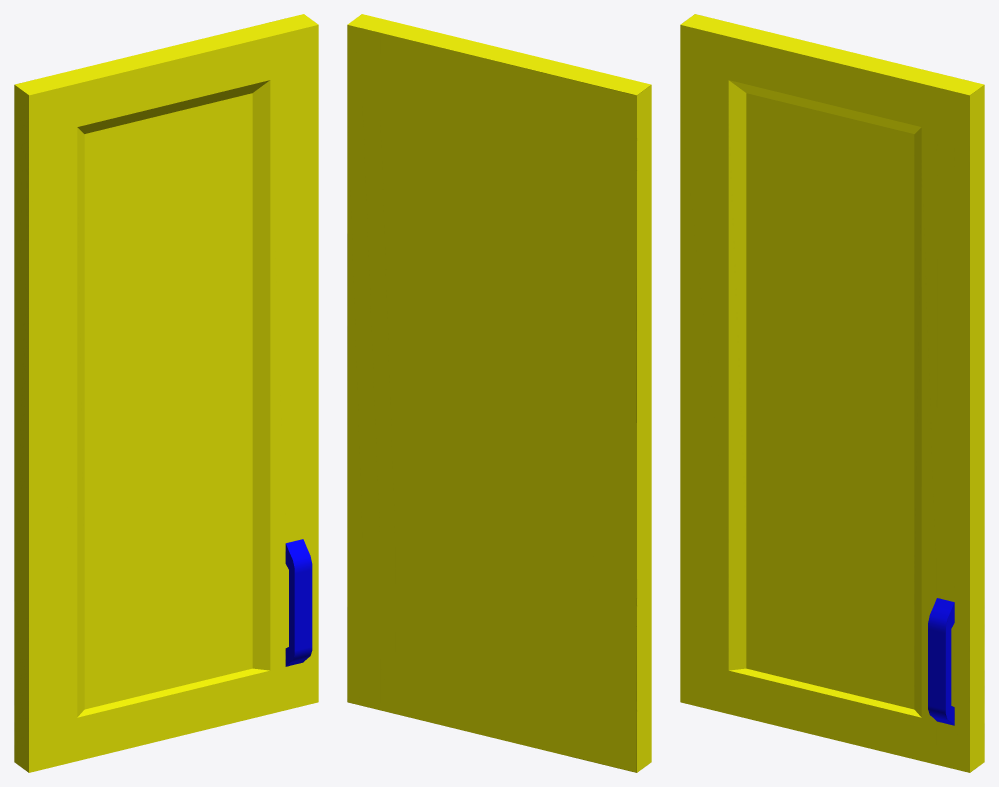
Rendered from SM_CabinetDoorL.fbx.
3 views of the same model, side by side, from view 1: azimuth 30°, elevation 25°; view 2: azimuth 150°, elevation 25°; view 3: azimuth 330°, elevation 25° (orthographic).
Parts seen in each view (by area): view 1: DoorL; view 2: DoorL; view 3: DoorL.
Part boxes in pixels (x1=…): DoorL: x1=14, y1=14, x2=318, y2=772; DoorL: x1=347, y1=14, x2=651, y2=772; DoorL: x1=680, y1=14, x2=984, y2=772.
Size of the model in its own units: 0.806 by 1.8 by 0.1139.
Materials: 1 (1 with a texture image).
